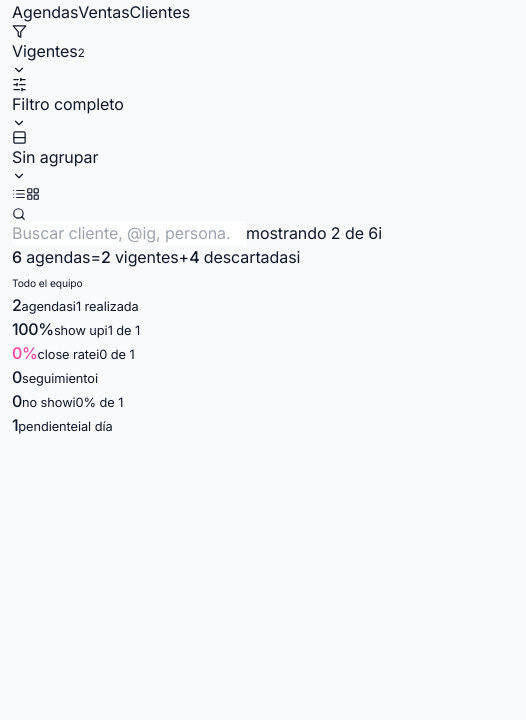
Test: Agendas · las descartadas › se ven en su propio filtro, cada una con su nombre
Click the button "Vigentes2": (48, 50) [12,24,85,77]
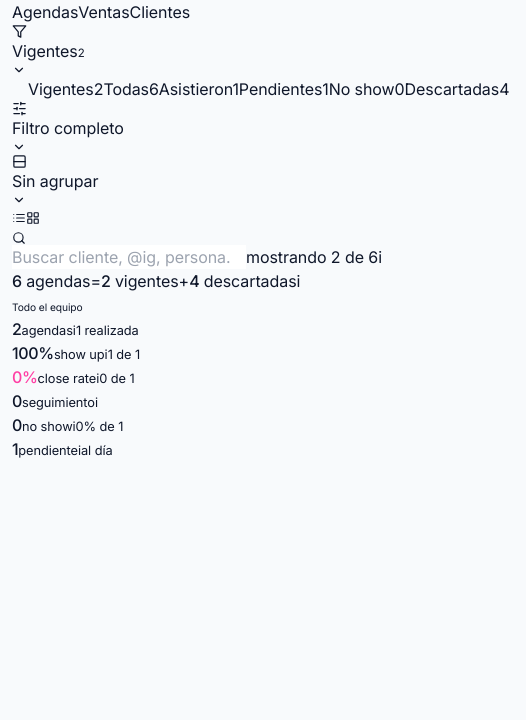
Click the menu item "Descartadas4": (457, 89) [405,77,509,101]
(page scrolled)
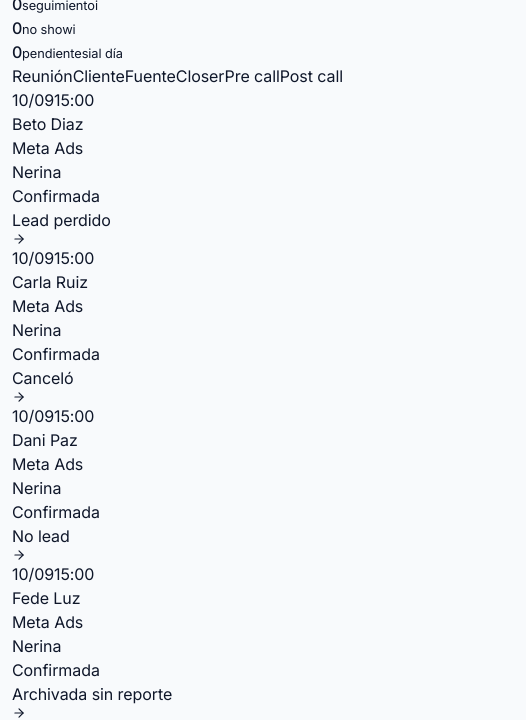
Now the text "Lead perdido" is shown, box [12,210,111,230]
Now the text "No lead" is shown, box [12,526,70,546]
Now the text "Archivada sin reporte" is shown, box [12,684,172,704]
